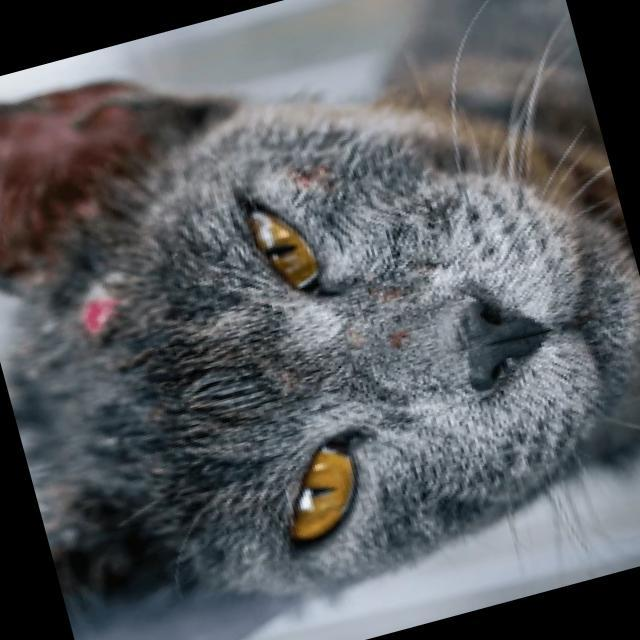Mange: (71, 280, 127, 344), (282, 152, 338, 201), (375, 316, 419, 362)
